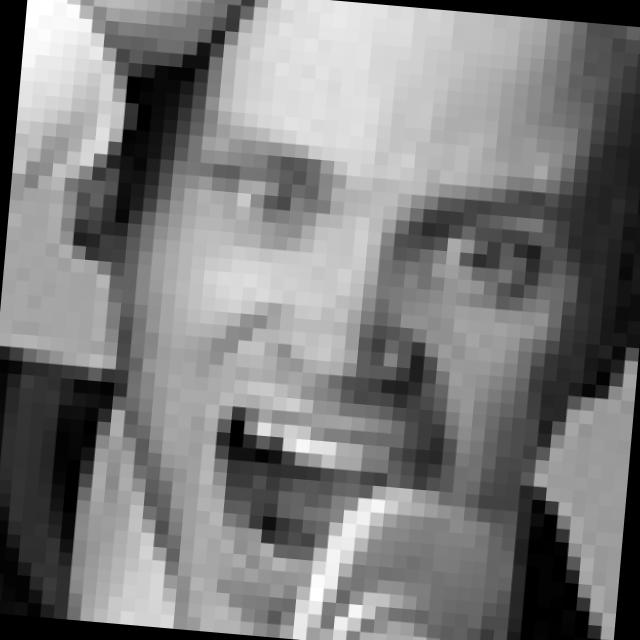angry: (146, 111, 591, 619)
